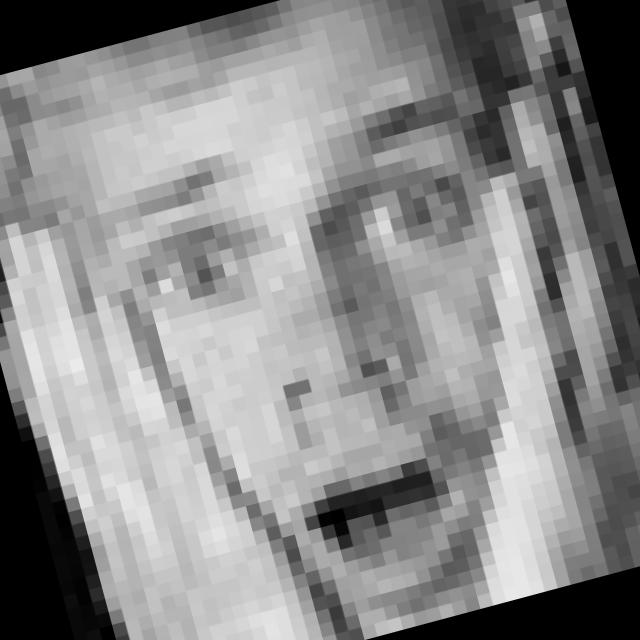surprise: (69, 71, 610, 640)
